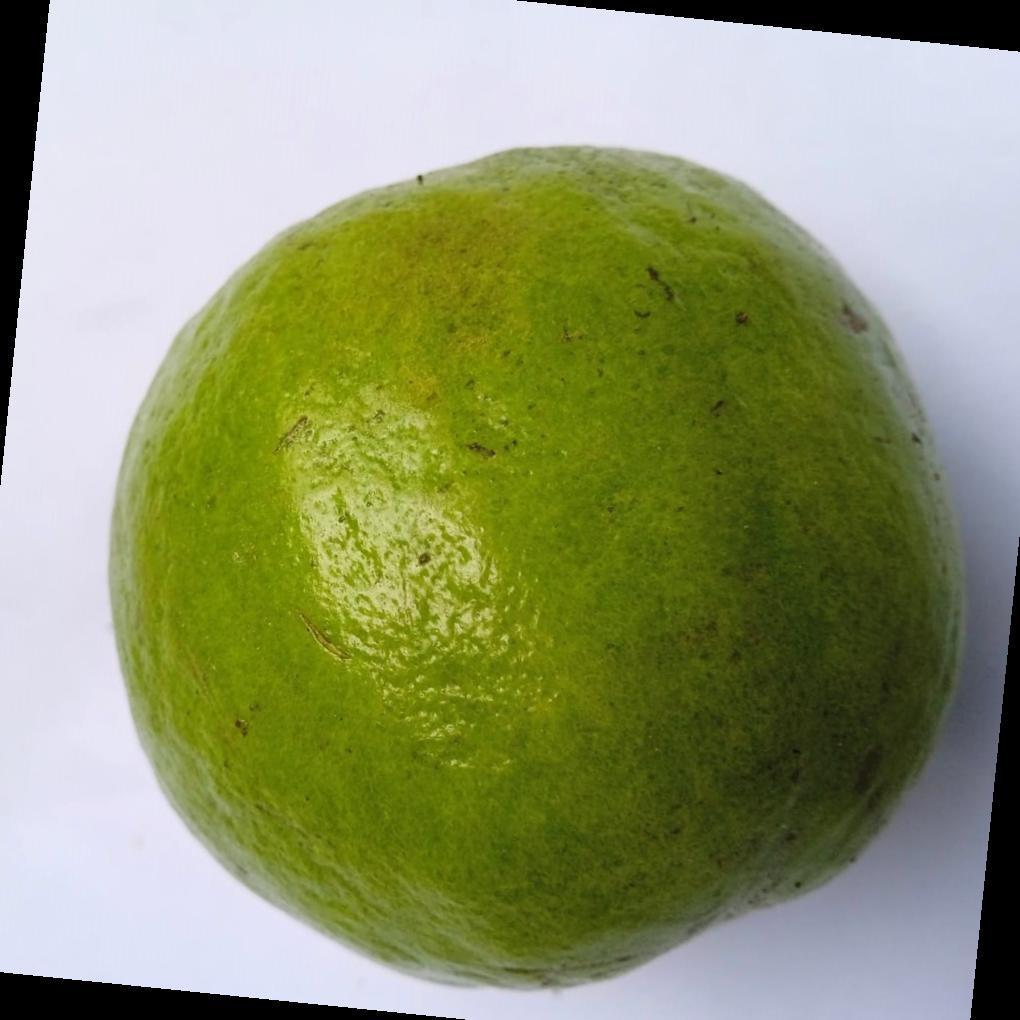FreshGuava: (105, 146, 967, 994)
